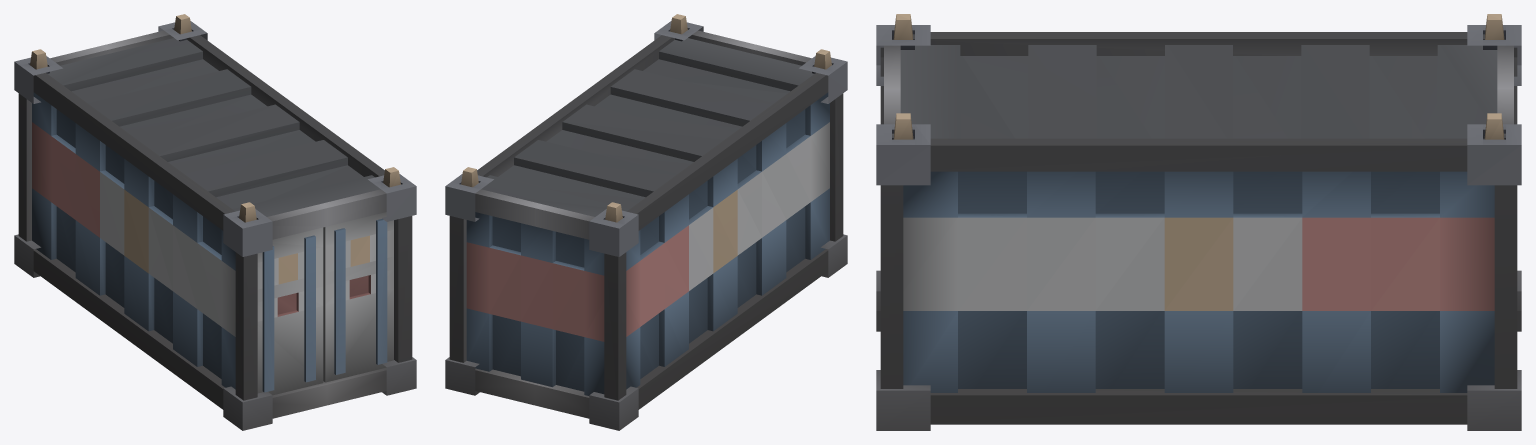
3 renders of one model, left to right at view 1: azimuth 30°, elevation 25°; view 2: azimuth 150°, elevation 25°; view 3: azimuth 270°, elevation 25°, orthographic. The views are drawn at different scales.
Visible parts, largest first — view 1: box; view 2: box; view 3: box.
Boxes of the visible parts, x1,y1,x2,y2 form: box: [14, 14, 416, 430]; box: [445, 14, 847, 430]; box: [876, 14, 1521, 430].
Bounding box in the file's own units: 2.38 × 2.81 × 5.4.
